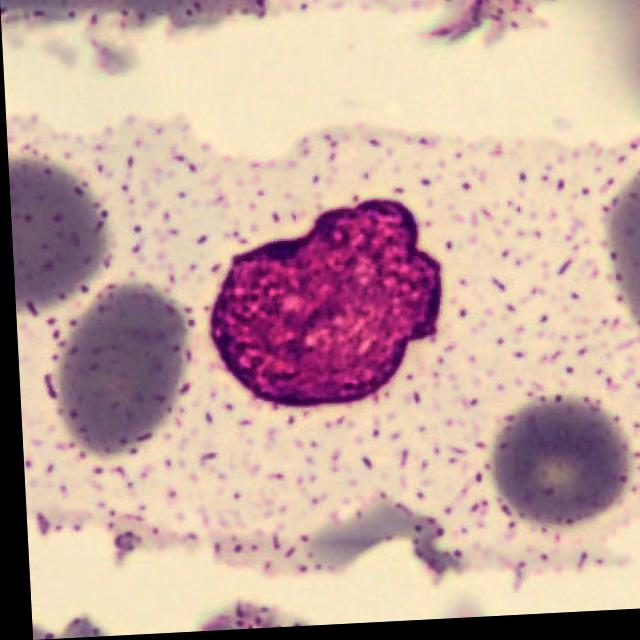Restos celulares: (205, 204, 440, 412)
